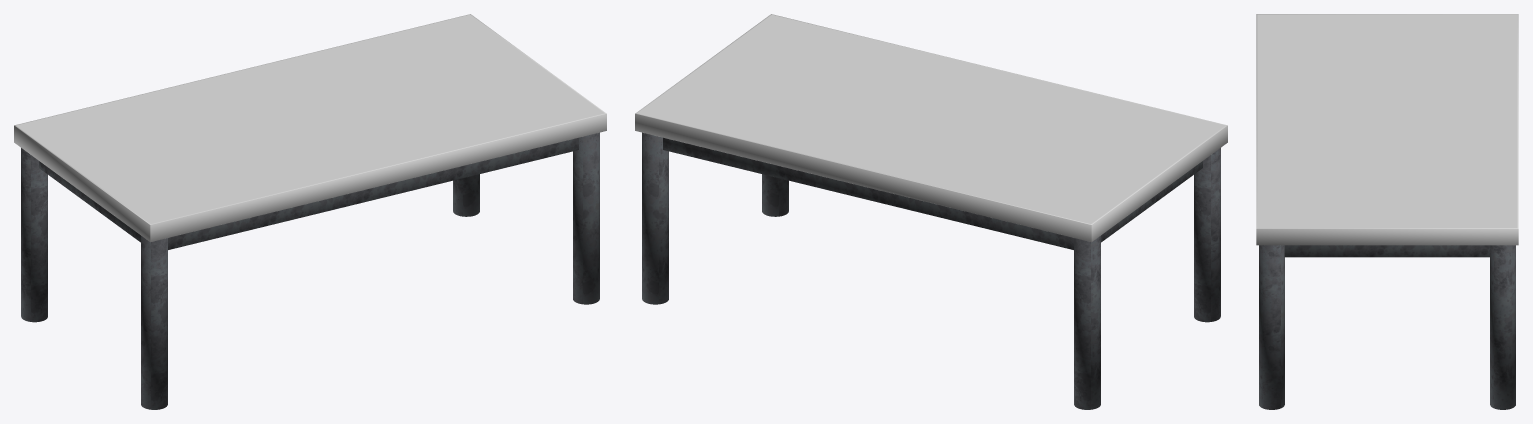
The model's file is Mesa-Grande.glb.
3 views of the same model, side by side, from view 1: azimuth 30°, elevation 25°; view 2: azimuth 150°, elevation 25°; view 3: azimuth 270°, elevation 25° (orthographic). The views are drawn at different scales.
Visible parts, largest first — view 1: Cylinder.003, Cylinder.001, Cylinder.002; view 2: Cylinder.003, Cylinder.001, Cylinder.002; view 3: Cylinder.003, Cylinder.001, Cylinder.002.
Part boxes in pixels (box(x1,y1,x2,y2)): Cylinder.003: box(14, 14, 606, 242); Cylinder.001: box(21, 132, 599, 409); Cylinder.002: box(39, 137, 578, 249); Cylinder.003: box(635, 14, 1227, 242); Cylinder.001: box(642, 132, 1220, 409); Cylinder.002: box(663, 137, 1202, 249); Cylinder.003: box(1256, 14, 1518, 245); Cylinder.001: box(1259, 245, 1515, 409); Cylinder.002: box(1284, 245, 1490, 257).
Bounding box in the file's own units: 2.45 × 0.9641 × 1.26.
1 material, 1 textured.
